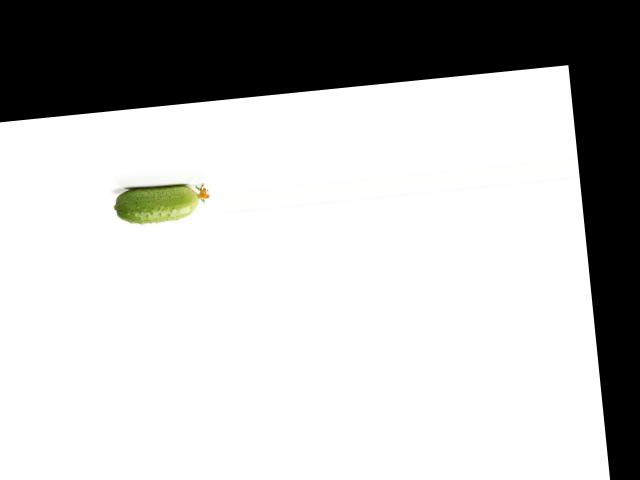cucumber: (111, 180, 210, 226)
